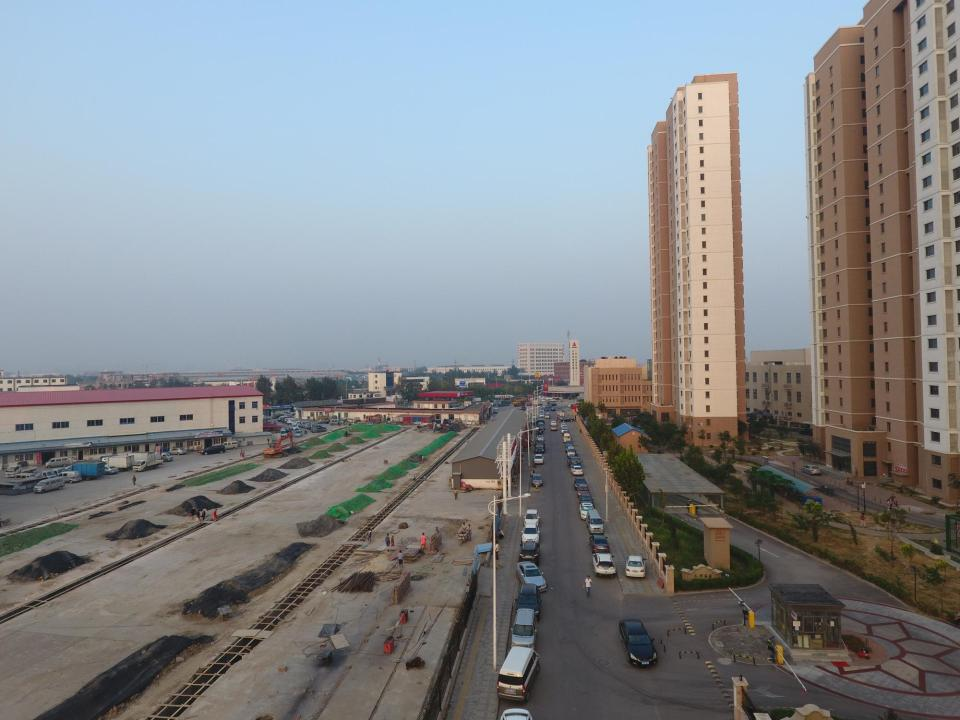car: (619, 619, 658, 667), (514, 583, 542, 620), (517, 561, 547, 592), (592, 553, 616, 577), (518, 542, 541, 566), (624, 556, 646, 578), (589, 535, 610, 554), (522, 523, 540, 545), (524, 510, 540, 528), (580, 503, 596, 520), (201, 445, 226, 455), (95, 466, 120, 474), (577, 484, 590, 498), (802, 465, 820, 475), (579, 494, 594, 506), (531, 474, 543, 487), (574, 477, 586, 490), (798, 428, 816, 436), (168, 448, 187, 455), (533, 454, 544, 465), (570, 466, 582, 476), (17, 460, 29, 469), (309, 424, 326, 430), (310, 427, 326, 433), (277, 429, 287, 438), (531, 419, 545, 425), (304, 424, 318, 430), (287, 420, 301, 426), (565, 444, 574, 453), (565, 440, 574, 448), (561, 417, 573, 422), (289, 424, 299, 430), (292, 421, 304, 426), (536, 435, 544, 441), (294, 430, 302, 436), (562, 430, 570, 435), (325, 419, 335, 423), (318, 419, 328, 423), (561, 428, 567, 434), (561, 424, 567, 430), (561, 422, 567, 428), (550, 420, 556, 426), (550, 424, 556, 430), (531, 414, 537, 419), (538, 413, 545, 417)
truck: (63, 461, 105, 481), (100, 455, 134, 472), (120, 451, 154, 468), (132, 459, 164, 472), (3, 465, 36, 477), (39, 468, 65, 480), (31, 470, 56, 482), (566, 456, 583, 468), (152, 452, 172, 462), (534, 440, 546, 453), (497, 399, 511, 406), (316, 416, 328, 422), (471, 398, 481, 404), (560, 411, 564, 418)
van: (497, 647, 540, 702), (510, 608, 538, 652), (33, 477, 64, 494), (586, 511, 604, 534), (45, 455, 73, 469), (55, 470, 81, 483), (15, 472, 38, 486), (219, 441, 238, 450), (567, 446, 576, 457), (562, 433, 570, 443), (299, 422, 312, 428), (330, 419, 342, 425), (538, 422, 545, 430), (493, 408, 499, 414), (544, 412, 550, 418)
